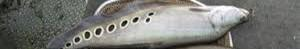Knifefish: (48, 0, 251, 48)
